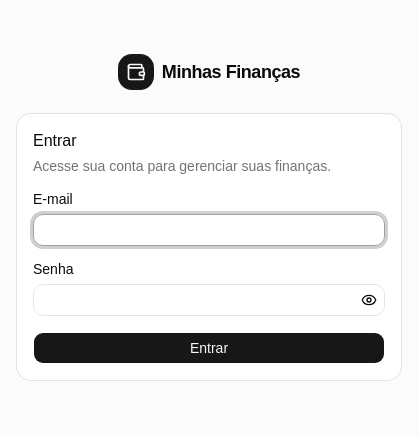
Scenario: Auth flow › shows a generic error for invalid credentials
This screenshot has width=419, height=436.
Type "ana@example.com" into the field labelled "E-mail" at point(209, 230), box [33,214,385,246]
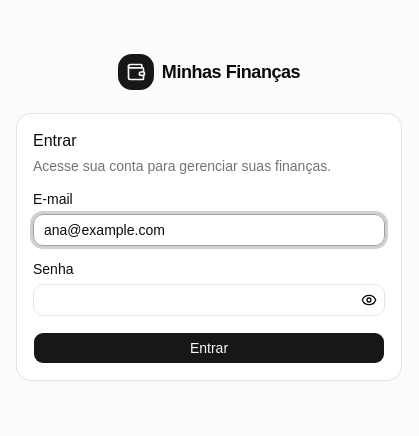
Type "wrong-password" into the password field labelled "Senha" at point(209, 300), box [33,284,385,316]
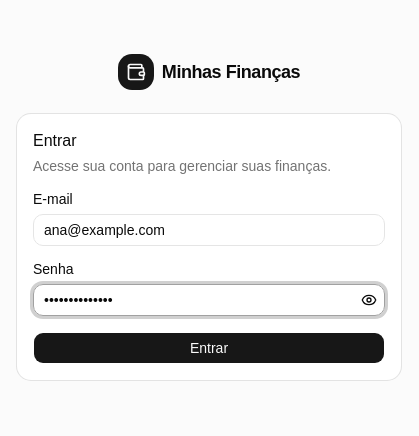
Click the button "Entrar" at point(209, 348), box [33,332,385,364]
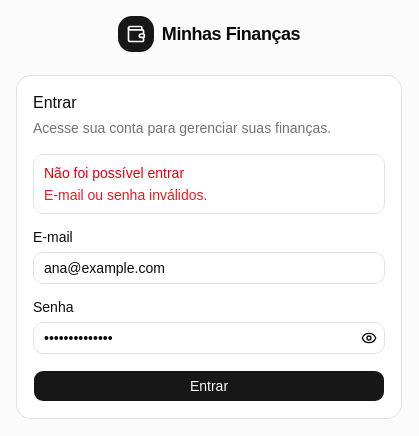
expect the text "E-mail ou senha inválidos." is shown: met, box [44,187,207,203]
